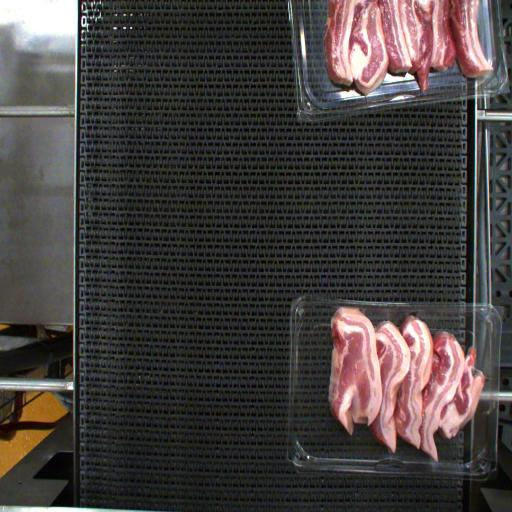packaging-error: (320, 291, 370, 320), (383, 446, 398, 474)
